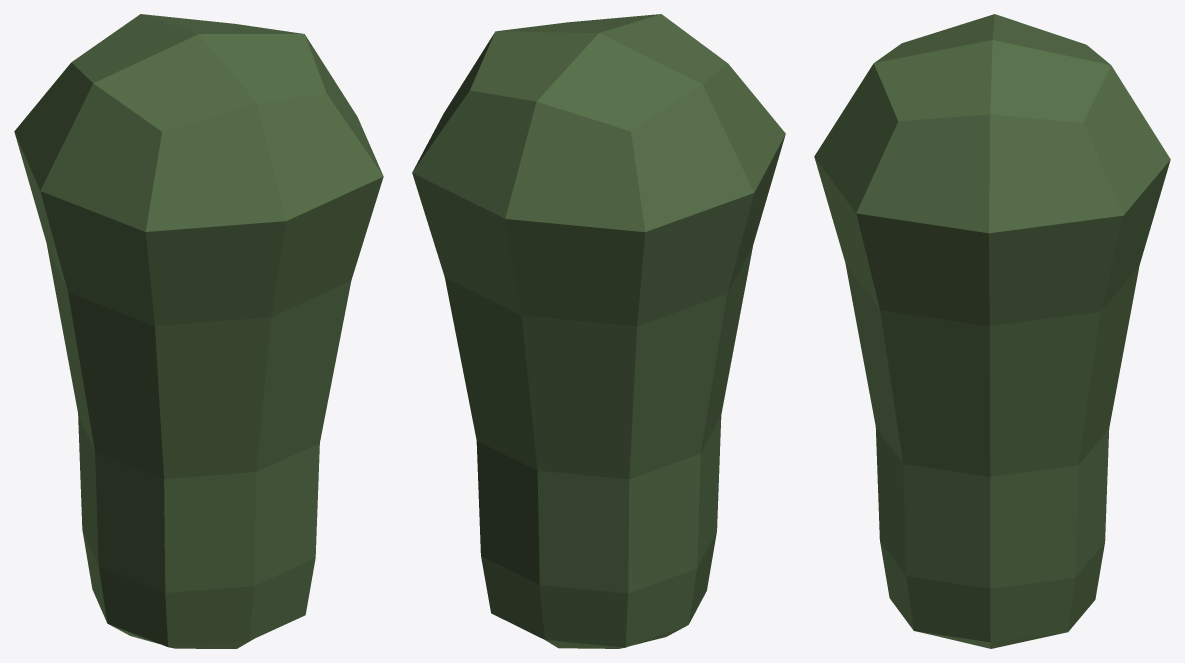
The model's file is Cactus_1.glb.
The picture shows the model from 3 angles, left to right: view 1: azimuth 30°, elevation 25°; view 2: azimuth 150°, elevation 25°; view 3: azimuth 270°, elevation 25°; orthographic projection.
Parts seen in each view (by area): view 1: Cactus_1; view 2: Cactus_1; view 3: Cactus_1.
Part boxes in pixels (x1,y1,x2,y2): Cactus_1: (14, 14, 383, 648); Cactus_1: (412, 14, 785, 648); Cactus_1: (814, 14, 1170, 648).
Bounding box in the file's own units: 0.0927 × 0.167 × 0.0927.
